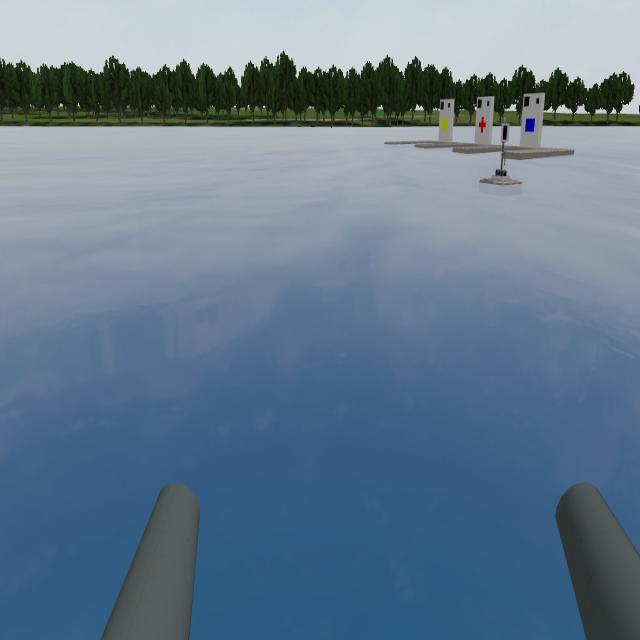black_pole: (500, 116, 510, 152)
